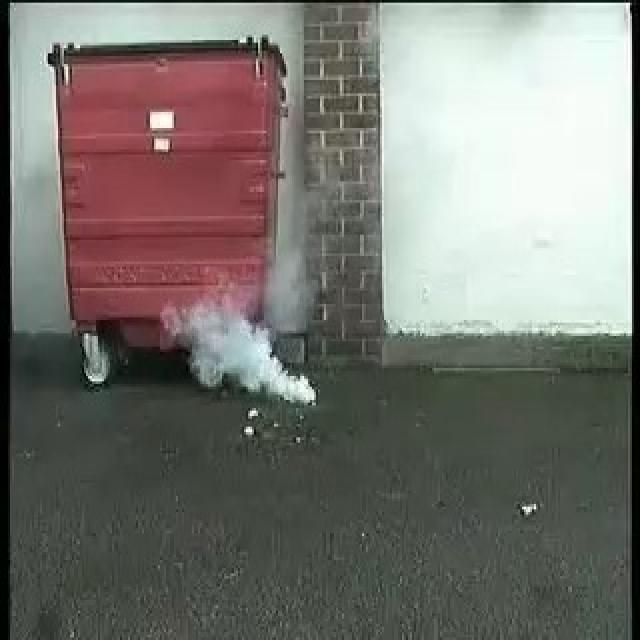smoke: (175, 297, 315, 402)
